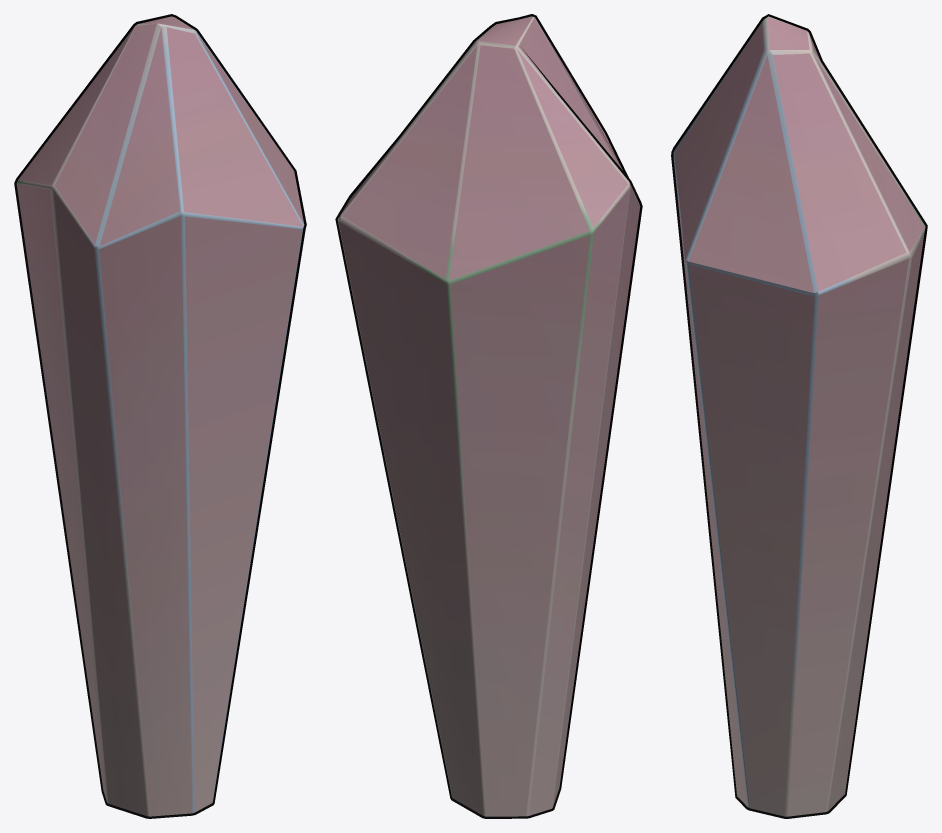
The model's file is pm-crystal-small-02.glb.
3 renders of one model, left to right at view 1: azimuth 30°, elevation 25°; view 2: azimuth 150°, elevation 25°; view 3: azimuth 270°, elevation 25°, orthographic.
Parts seen in each view (by area): view 1: Crystal_Small_02; view 2: Crystal_Small_02; view 3: Crystal_Small_02.
Part boxes in pixels (x1,y1,x2,y2): Crystal_Small_02: [14, 14, 306, 818]; Crystal_Small_02: [335, 14, 642, 818]; Crystal_Small_02: [671, 14, 927, 818].
Bounding box in the file's own units: 1.13 × 3.2 × 0.9596.
Materials: 2 (1 with a texture image).
